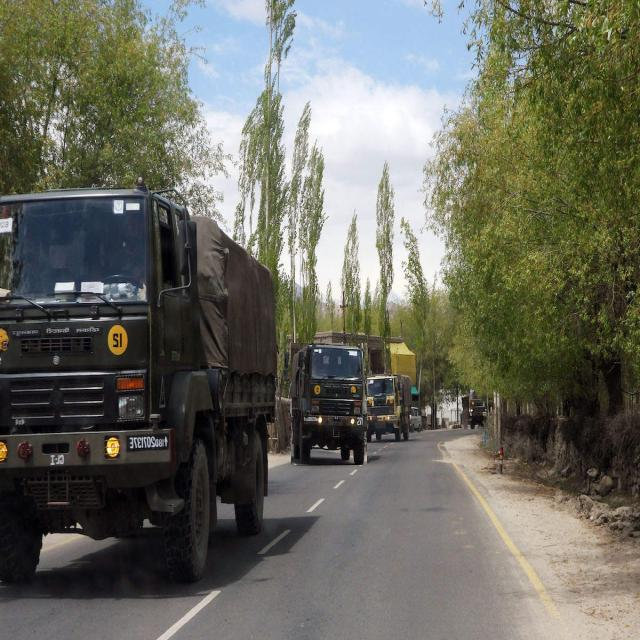truck: (0, 183, 276, 582), (291, 344, 366, 465), (366, 375, 411, 440)
